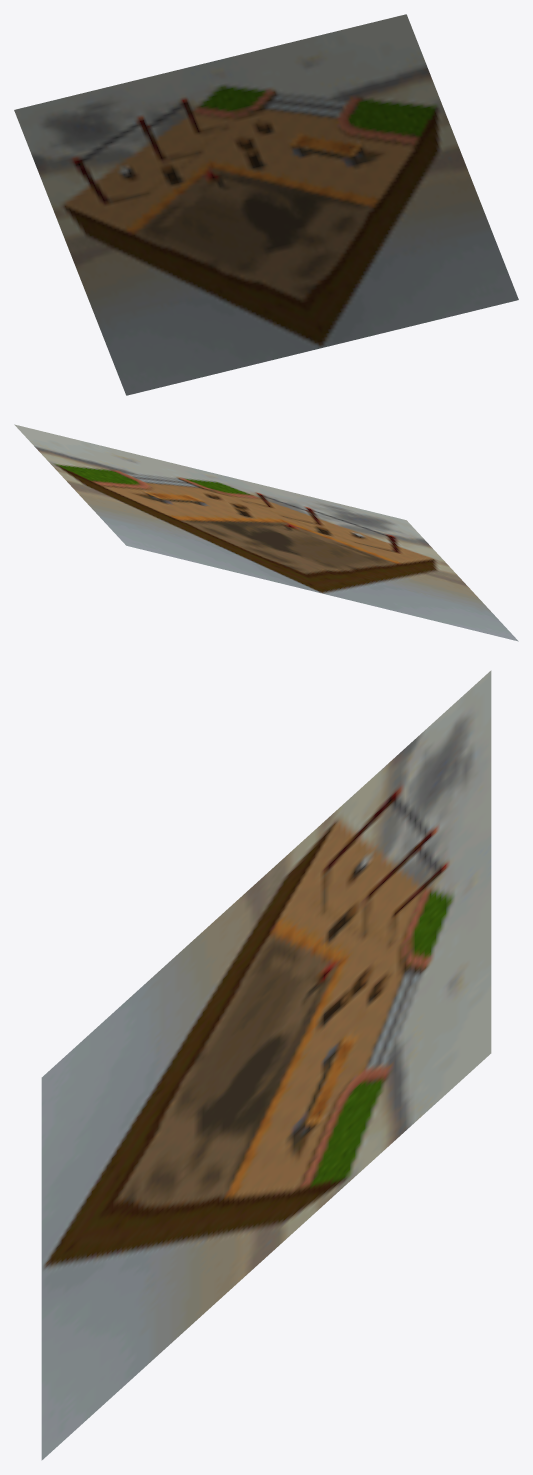
3 views of the same model, one above another, from view 1: azimuth 30°, elevation 25°; view 2: azimuth 150°, elevation 25°; view 3: azimuth 270°, elevation 25° (orthographic). The views are drawn at different scales.
Visible parts, largest first — view 1: Joint_0_Object_0; view 2: Joint_0_Object_0; view 3: Joint_0_Object_0.
Boxes of the visible parts, x1,y1,x2,y2 form: Joint_0_Object_0: [14, 14, 518, 395]; Joint_0_Object_0: [14, 424, 518, 641]; Joint_0_Object_0: [41, 670, 491, 1460].
Size of the model in its own units: 241 by 120 by 120.
Materials: 1 (1 with a texture image).
